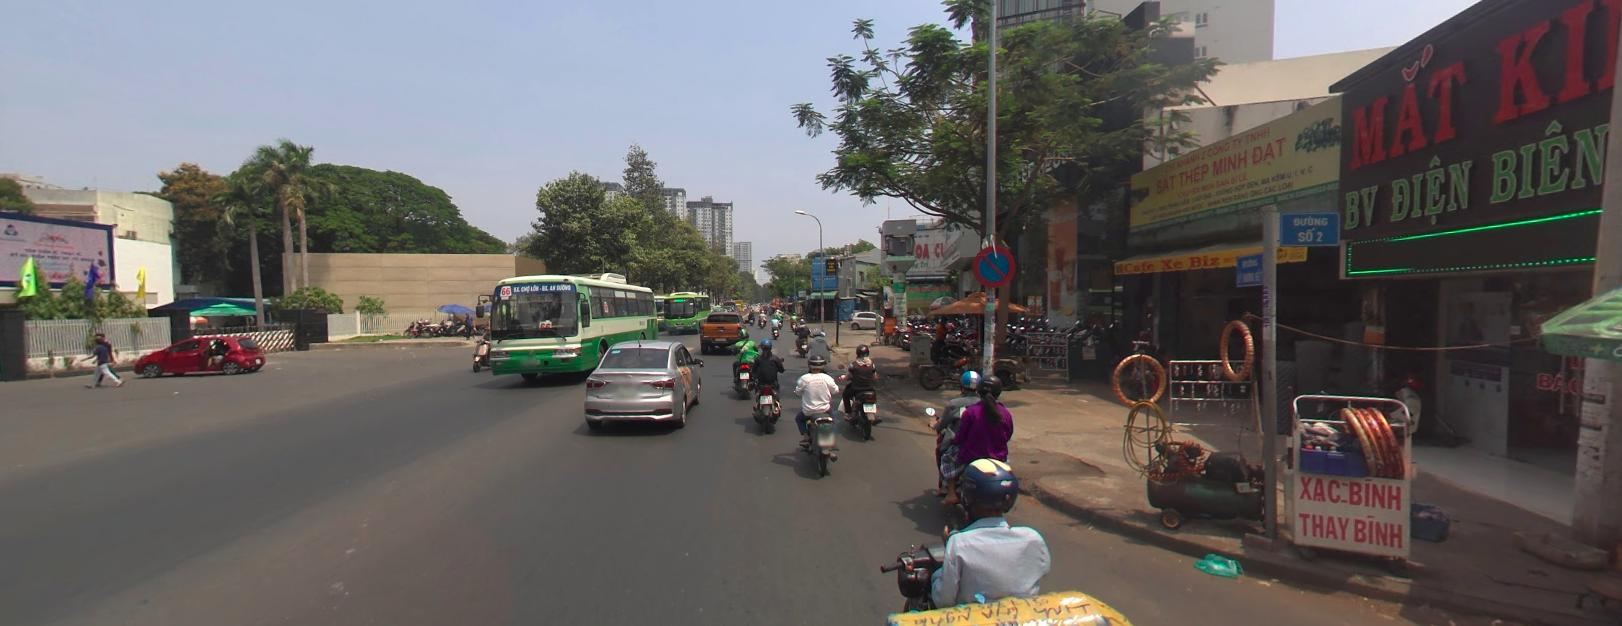Cam dung va do: (972, 243, 1016, 284)
